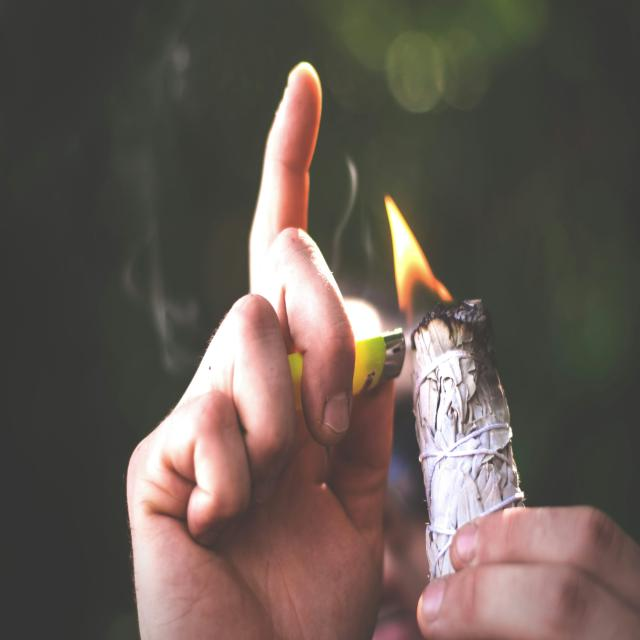fire: (384, 195, 453, 326)
